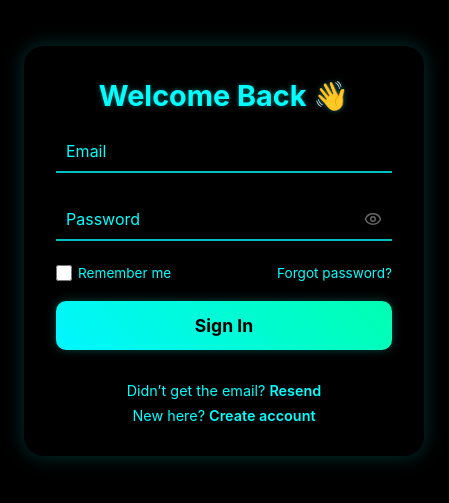
Login › shows the backend’s actual "please verify your email" message on failed login
Type "a@b.com" into the field labelled "Email" at (224, 151), box top-left (56, 129), bottom-right (392, 173)
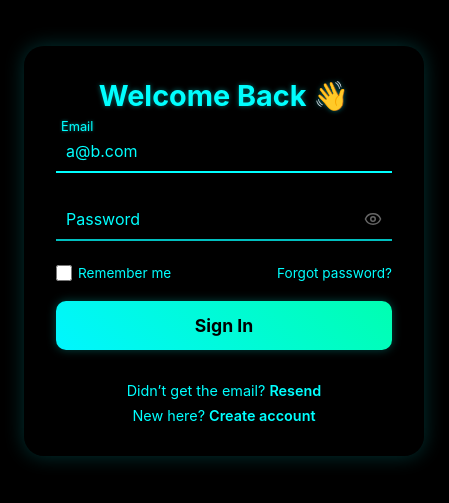
Type "secret123" into the password field labelled "Password" at (224, 219), box top-left (56, 197), bottom-right (392, 241)
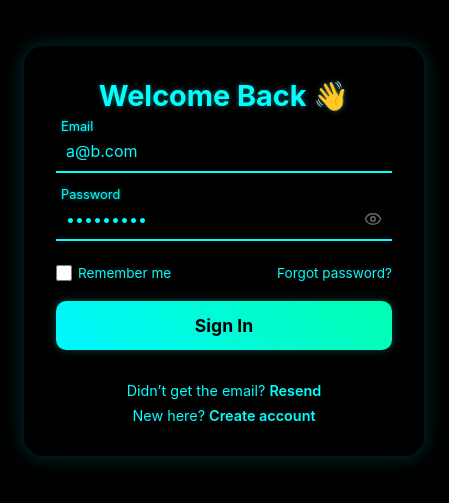
Click the button "Sign In" at (224, 325), box top-left (56, 301), bottom-right (392, 350)
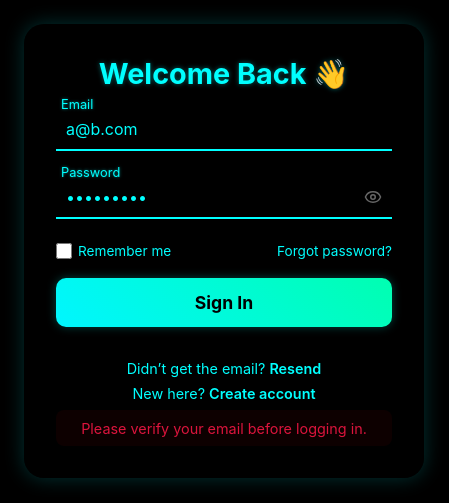
Check: the message reads "Please verify your email before logging in.", box top-left (81, 420), bottom-right (367, 437)
